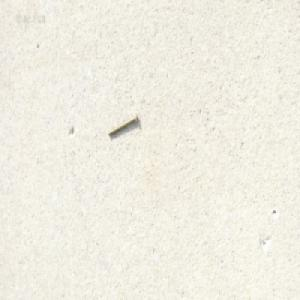Bolt: (107, 112, 138, 137)
